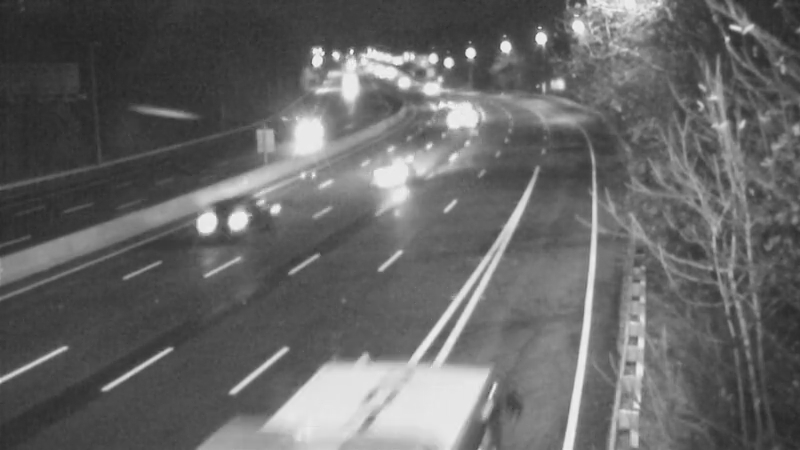vehicle: (362, 139, 442, 219), (200, 179, 280, 259), (377, 56, 427, 106), (401, 58, 451, 108), (417, 84, 467, 134), (441, 89, 491, 139), (284, 113, 334, 163), (325, 63, 375, 113)
